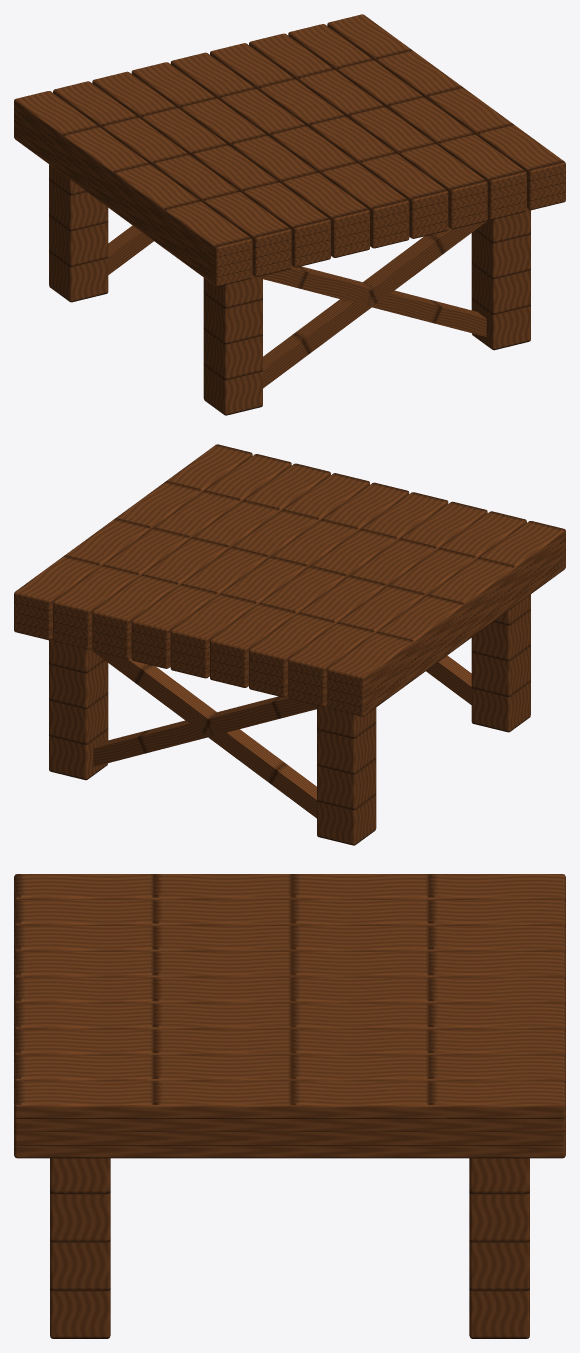
The model's file is modular-survival-base-builder-cross-braced-foundation-e0f5fd88__24134.glb.
3 renders of one model, top to bottom at view 1: azimuth 30°, elevation 25°; view 2: azimuth 150°, elevation 25°; view 3: azimuth 270°, elevation 25°, orthographic. The views are drawn at different scales.
Visible parts, largest first — view 1: cross-braced-foundation; view 2: cross-braced-foundation; view 3: cross-braced-foundation.
Part boxes in pixels (<box>): cross-braced-foundation: <box>14,14,565,415</box>; cross-braced-foundation: <box>14,444,565,845</box>; cross-braced-foundation: <box>14,874,565,1338</box>.
Size of the model in its own units: 1.99 by 1 by 2.
1 material, 1 textured.
